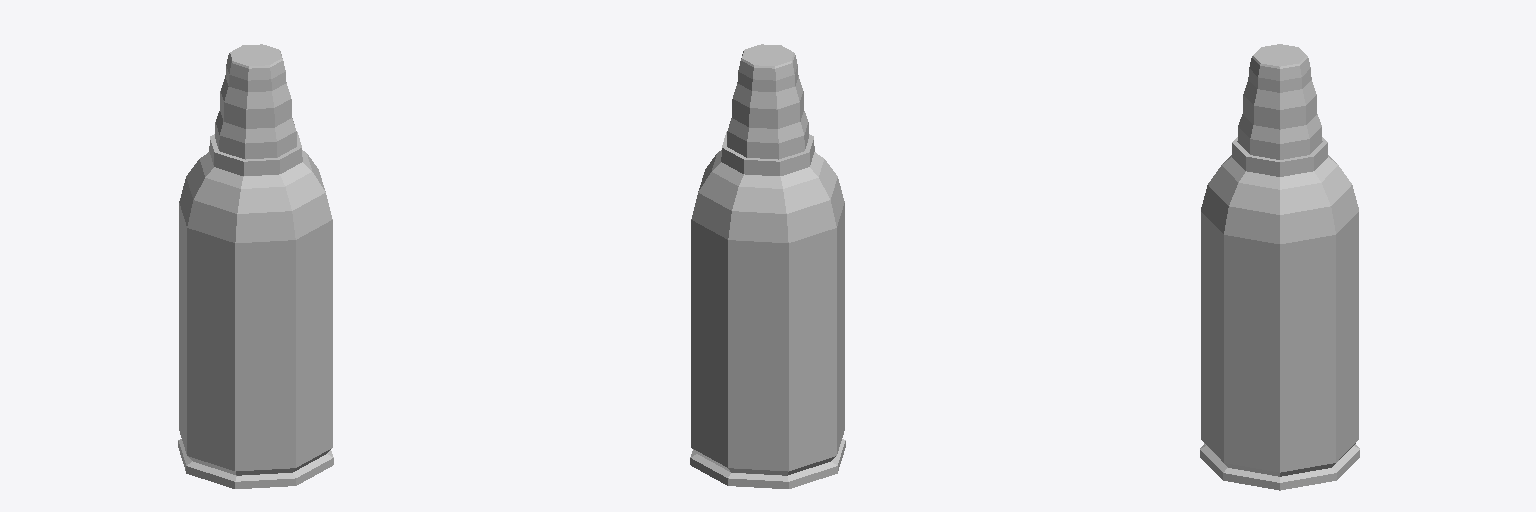
The model's file is cannedWhipCream.obj.
3 renders of one model, left to right at view 1: azimuth 30°, elevation 25°; view 2: azimuth 150°, elevation 25°; view 3: azimuth 270°, elevation 25°, orthographic.
Size of the model in its own units: 0.9953 by 2.74 by 0.9953.